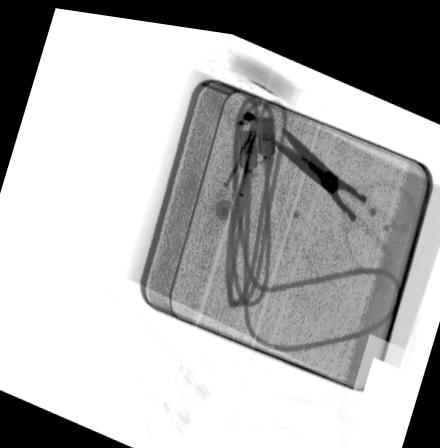Scissors: (269, 116, 418, 261)
